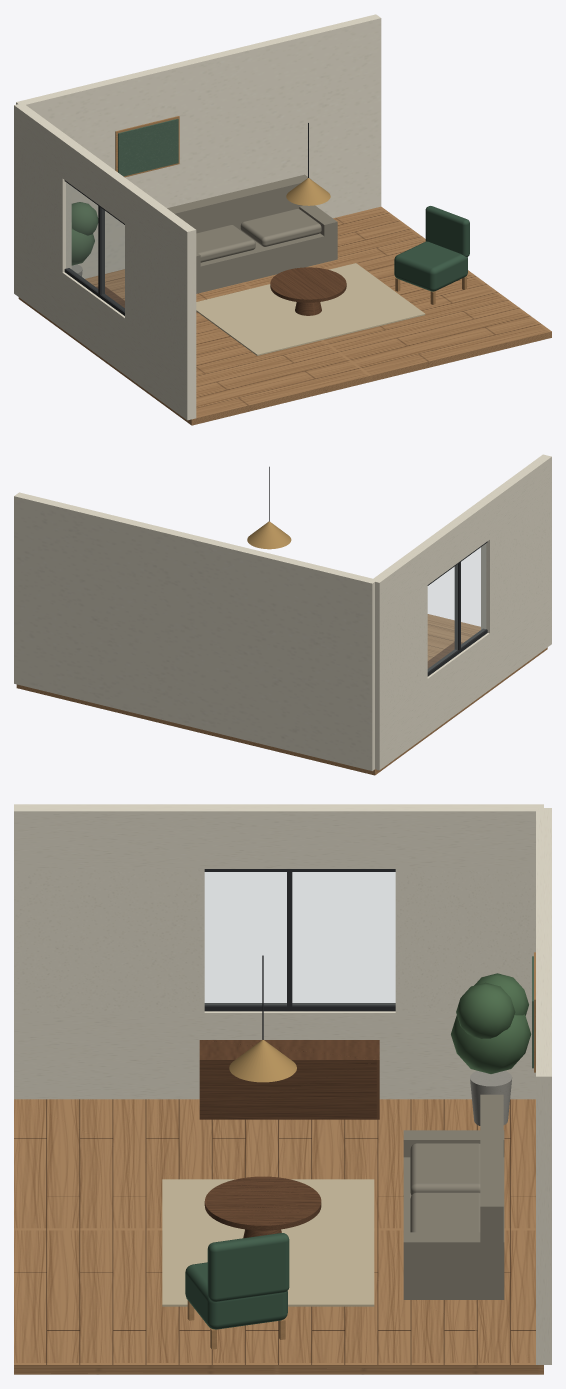
File: room.glb
3 renders of one model, top to bottom at view 1: azimuth 30°, elevation 25°; view 2: azimuth 150°, elevation 25°; view 3: azimuth 270°, elevation 25°, orthographic. The views are drawn at different scales.
Size of the model in its own units: 6.08 by 3.1 by 5.08.
Materials: 13 (6 with a texture image).
